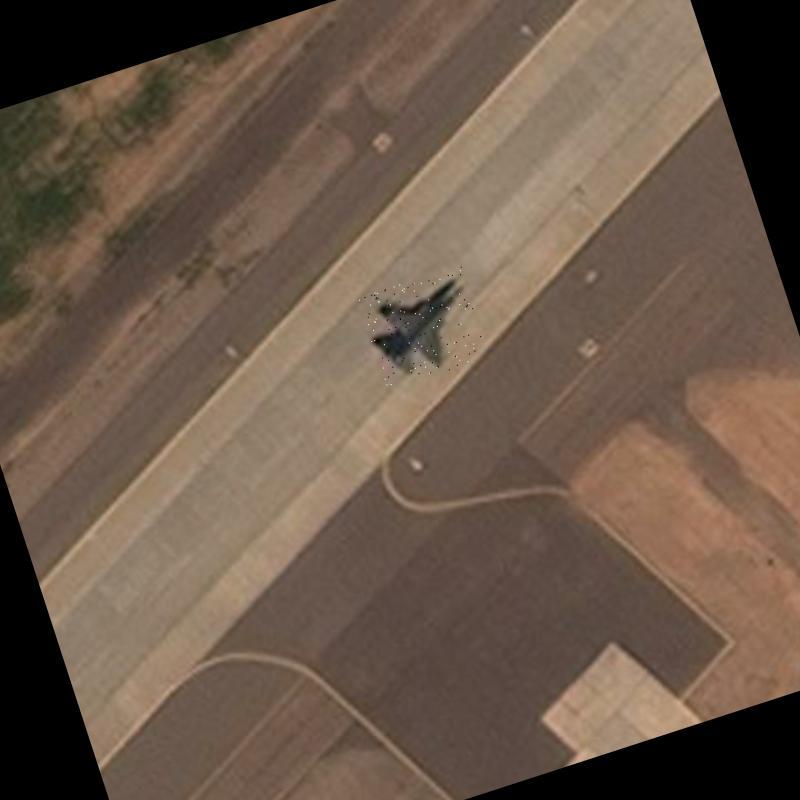A5: (358, 264, 492, 390)
